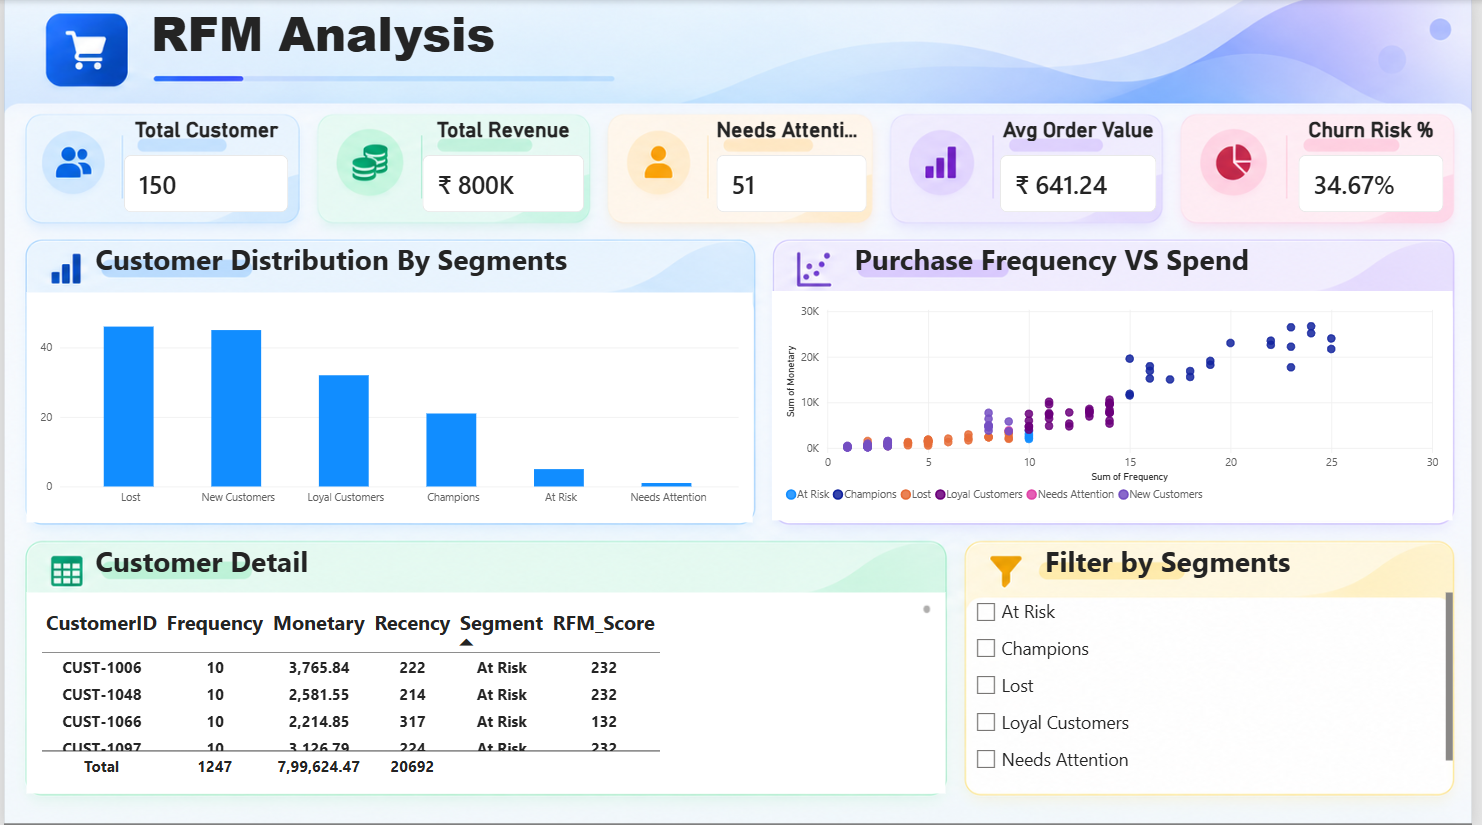

The dashboard page shown, as its layout file describes it:
{"tool":"powerbi","page":{"name":"Page 1","canvas":[1672,941],"ordinal":0},"visuals":[{"type":"clusteredColumnChart","fields":{"Category":["rfm_segments.Segment"],"Y":["CountNonNull(rfm_segments.CustomerID)"]},"box":[26.3,332.7,827,262],"z":0},{"type":"scatterChart","fields":{"X":["Sum(rfm_segments.Frequency)"],"Y":["Sum(rfm_segments.Monetary)"],"Series":["rfm_segments.Segment"],"Category":["rfm_segments.CustomerID"]},"box":[874.2,332.3,775,261.1],"z":1000},{"type":"slicer","fields":{"Values":["rfm_segments.Segment"]},"box":[1099.7,674.5,549.9,219.6],"z":2000},{"type":"tableEx","fields":{"Values":["rfm_segments.CustomerID","Sum(rfm_segments.Frequency)","Sum(rfm_segments.Monetary)","Sum(rfm_segments.Recency)","rfm_segments.Segment","rfm_segments.RFM_Score"]},"box":[25.7,674.5,1046,228],"z":3000},{"type":"cardVisual","title":"Total Customer ","fields":{"Data":["rfm_segments.Total_Customers"]},"box":[137.2,133.4,188,109],"z":4000},{"type":"cardVisual","title":"Total Revenue","fields":{"Data":["rfm_segments.Total_Revenue"]},"box":[477.4,133.4,184.2,109],"z":5000},{"type":"cardVisual","title":"Avg Order Value","fields":{"Data":["rfm_segments.AOV"]},"box":[1135.2,133.4,178.6,109],"z":6000},{"type":"cardVisual","title":"Churn Risk %","fields":{"Data":["rfm_segments.Churn_Risk_Pct"]},"box":[1475.4,133.4,165.4,109],"z":7000},{"type":"cardVisual","title":" Needs Attention ","fields":{"Data":["Count(rfm_segments.CustomerID)"]},"box":[812,133.4,171,109],"z":8000},{"type":"textbox","box":[168.1,0,524.2,83.1],"z":9000},{"type":"textbox","box":[104.8,273,694.3,59.3],"z":10000},{"type":"textbox","box":[969.2,273,571.6,59.3],"z":11000},{"type":"textbox","box":[104.8,617.1,793.1,57.4],"z":12000},{"type":"textbox","box":[1186.8,617.1,429.2,57.4],"z":13000}]}

Visuals, with their boxes in screenshot pixels (x1, y1, x2, y2), scaled from the page's 1672x941 canvas onto the 1482x825 screenshot:
clusteredColumnChart - rfm_segments.Segment x CountNonNull(rfm_segments.CustomerID): locate(23, 292, 756, 521)
scatterChart - Sum(rfm_segments.Frequency) x Sum(rfm_segments.Monetary): locate(775, 291, 1462, 520)
slicer - rfm_segments.Segment: locate(975, 591, 1462, 784)
tableEx - rfm_segments.CustomerID x Sum(rfm_segments.Frequency): locate(23, 591, 950, 791)
"Total Customer " cardVisual: locate(122, 117, 288, 213)
"Total Revenue" cardVisual: locate(423, 117, 586, 213)
"Avg Order Value" cardVisual: locate(1006, 117, 1165, 213)
"Churn Risk %" cardVisual: locate(1308, 117, 1454, 213)
" Needs Attention " cardVisual: locate(720, 117, 871, 213)
textbox: locate(149, 0, 614, 73)
textbox: locate(93, 239, 708, 291)
textbox: locate(859, 239, 1366, 291)
textbox: locate(93, 541, 796, 591)
textbox: locate(1052, 541, 1432, 591)
